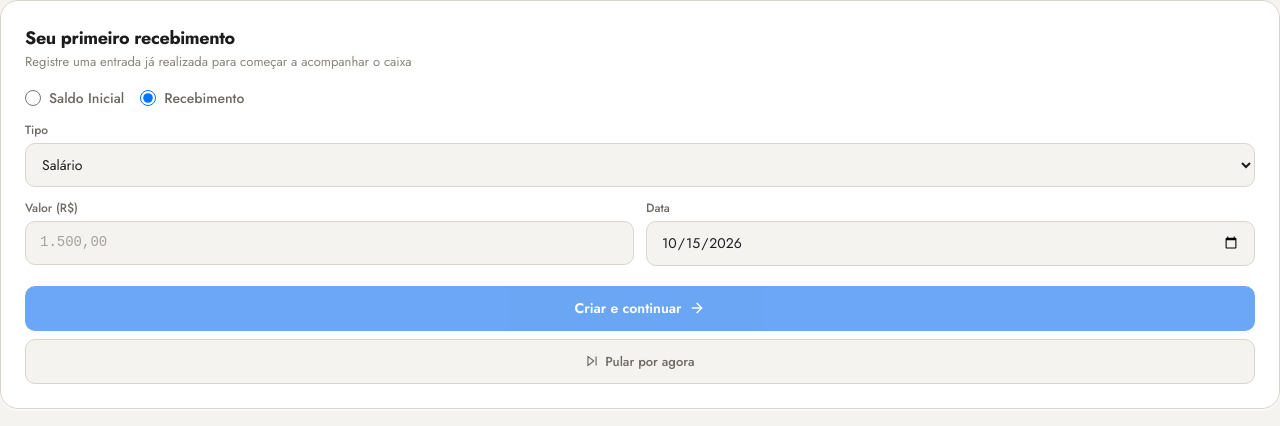
Test case: QuickReceiptStep › "Criar e continuar" disabled while valor is empty; enabled once a valor is typed
expect the button "Criar e continuar" is disabled: met, box [25,286,1255,330]
In the field labelled "Valor (R$)": (330, 242) [25,220,634,264], type "10,00"
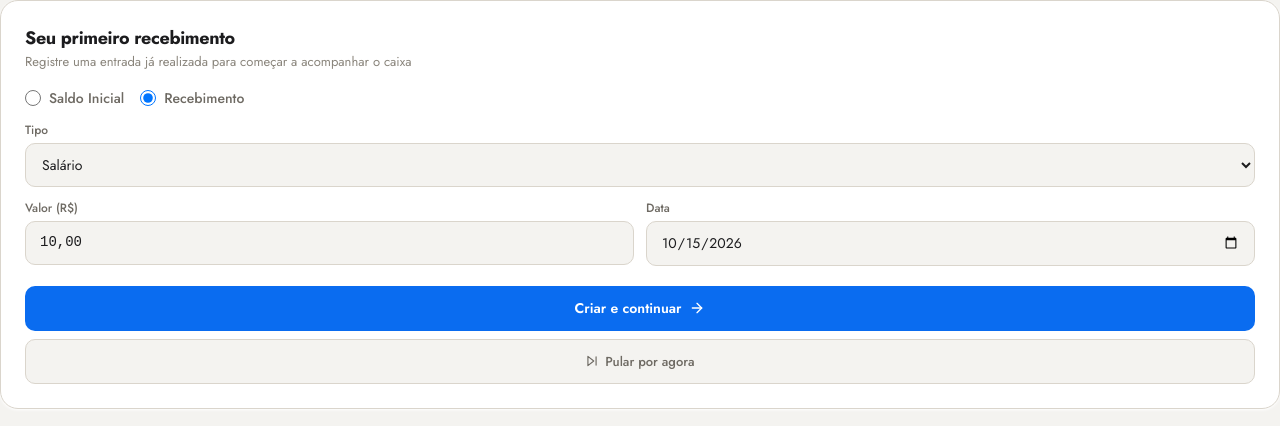
expect the button "Criar e continuar" is enabled: met, box [25,286,1255,330]
